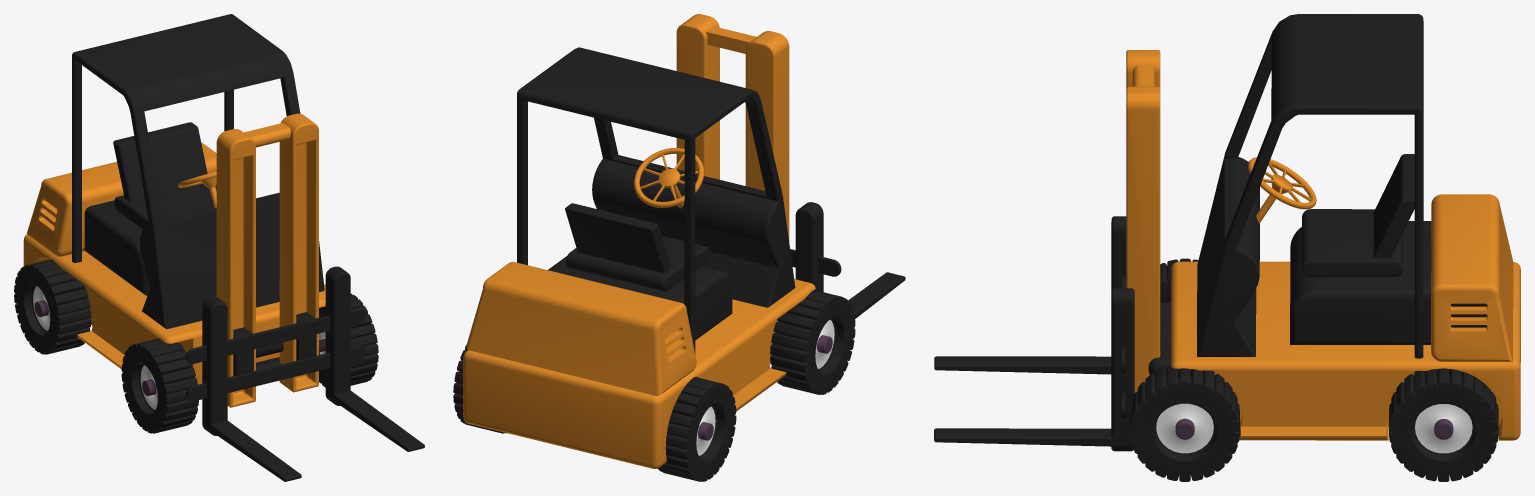
3 views of the same model, side by side, from view 1: azimuth 30°, elevation 25°; view 2: azimuth 150°, elevation 25°; view 3: azimuth 270°, elevation 25° (orthographic). The views are drawn at different scales.
Parts seen in each view (by area): view 1: cheshenzj.01, cheshenzj.04, cheshenzj.07, cheshenzj.08, cheshenzj.02, chelun.03, chelun.04, cheshenzj.03, chechazj.02, chechazj.03, chechazj.01, chechazj.08 (+6 smaller); view 2: cheshenzj.01, cheshenzj.02, cheshenzj.03, cheshenzj.04, chelun.03, chelun.04, cheshenzj.08, cheshenzj.07, chechazj.02, chechazj.05, cheshenzj.11, cheshenzj.09 (+3 smaller); view 3: cheshenzj.01, cheshenzj.02, cheshenzj.04, cheshenzj.03, chelun.01, chelun.02, cheshenzj.07, chechazj.03, chechazj.04, chechazj.05, chechazj.02, cheshenzj.11 (+3 smaller).
Part boxes in pixels (x1,y1,x2,y2): cheshenzj.01: [72, 14, 324, 328]; cheshenzj.04: [84, 122, 216, 295]; cheshenzj.07: [279, 113, 318, 392]; cheshenzj.08: [216, 129, 255, 407]; cheshenzj.02: [23, 235, 325, 384]; chelun.03: [121, 338, 198, 433]; chelun.04: [14, 259, 91, 354]; cheshenzj.03: [26, 142, 216, 256]; chechazj.02: [202, 296, 227, 435]; chechazj.03: [325, 266, 350, 405]; chechazj.01: [186, 308, 365, 363]; chechazj.08: [186, 345, 365, 401]; cheshenzj.01: [517, 47, 795, 353]; cheshenzj.02: [463, 279, 815, 468]; cheshenzj.03: [466, 262, 696, 396]; cheshenzj.04: [548, 203, 732, 340]; chelun.03: [770, 290, 855, 394]; chelun.04: [658, 377, 736, 481]; cheshenzj.08: [745, 31, 789, 241]; cheshenzj.07: [676, 14, 719, 179]; chechazj.02: [795, 202, 823, 291]; chechazj.05: [848, 272, 905, 318]; cheshenzj.11: [634, 148, 703, 207]; cheshenzj.09: [706, 26, 756, 53]; cheshenzj.01: [1197, 14, 1423, 358]; cheshenzj.02: [1171, 261, 1520, 440]; cheshenzj.04: [1290, 154, 1431, 344]; cheshenzj.03: [1431, 194, 1513, 361]; chelun.01: [1130, 365, 1239, 481]; chelun.02: [1389, 368, 1498, 481]; cheshenzj.07: [1126, 86, 1160, 392]; chechazj.03: [1111, 288, 1134, 451]; chechazj.04: [934, 428, 1132, 446]; chechazj.05: [934, 356, 1111, 374]; chechazj.02: [1111, 216, 1126, 290]; cheshenzj.11: [1248, 157, 1316, 209].
Size of the model in its own units: 6.04 by 8.19 by 12.09.
